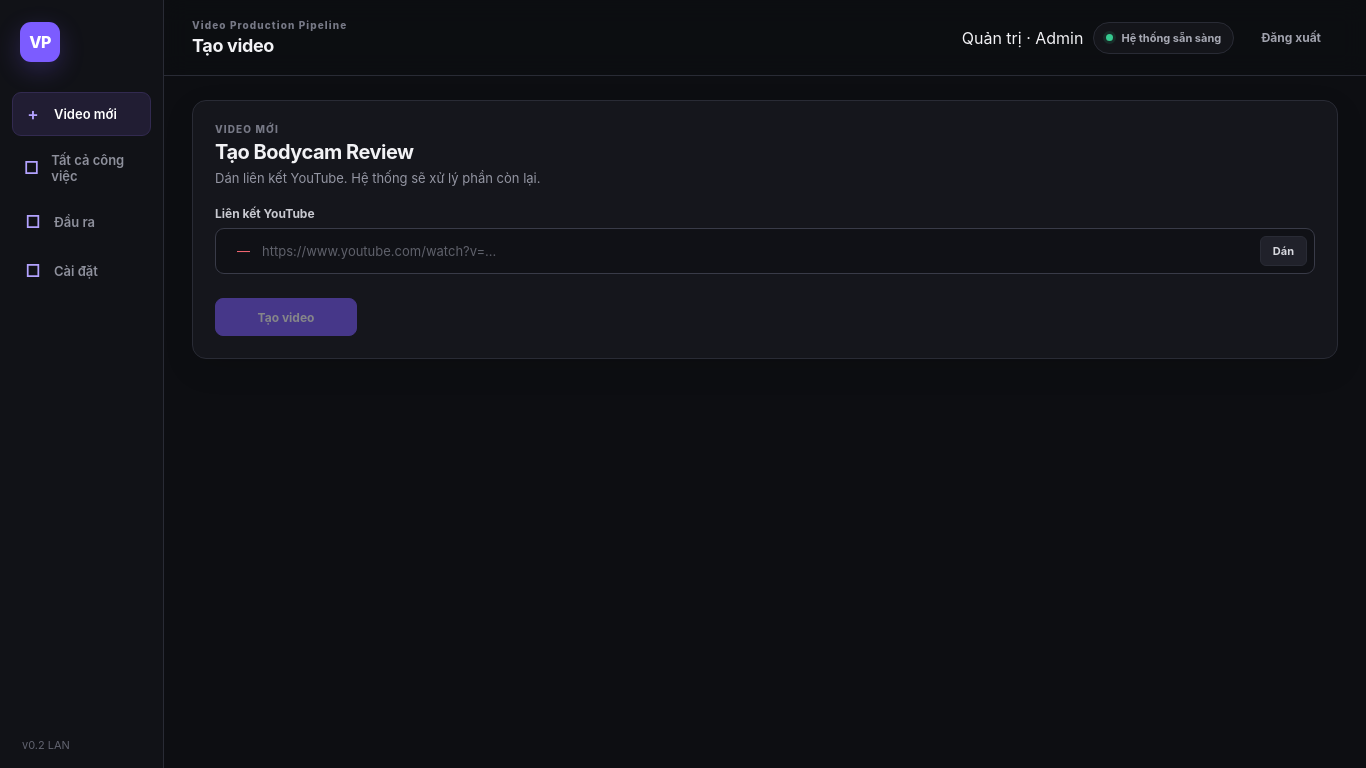
Test: App › shows shared queue position and final download
Click the button "□ Tất cả công việc" at (82,168), box [12,141,151,195]
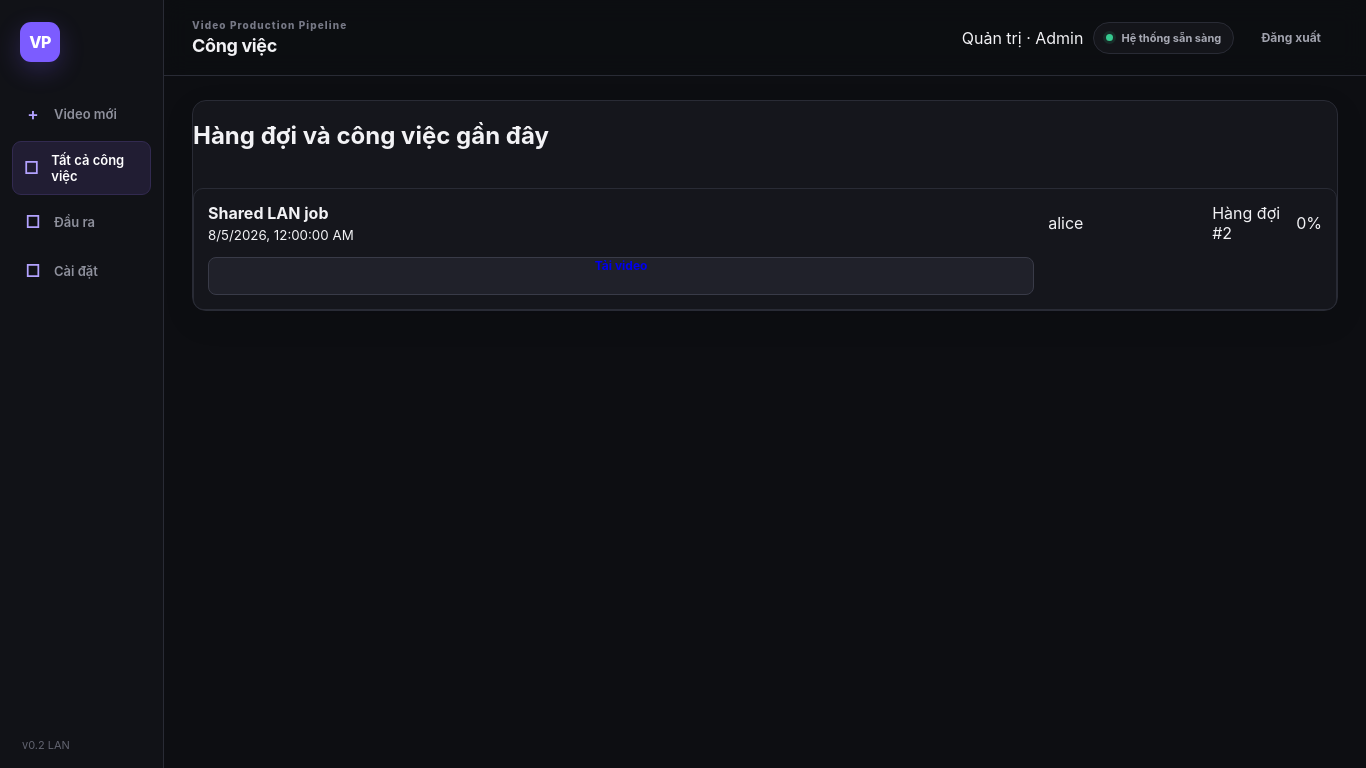
Expected: the text "Shared LAN job" is shown, [208,203,328,223]
Expected: the text "Hàng đợi #2" is shown, [1212,203,1282,243]
Expected: the text "alice" is shown, [1048,213,1083,233]
